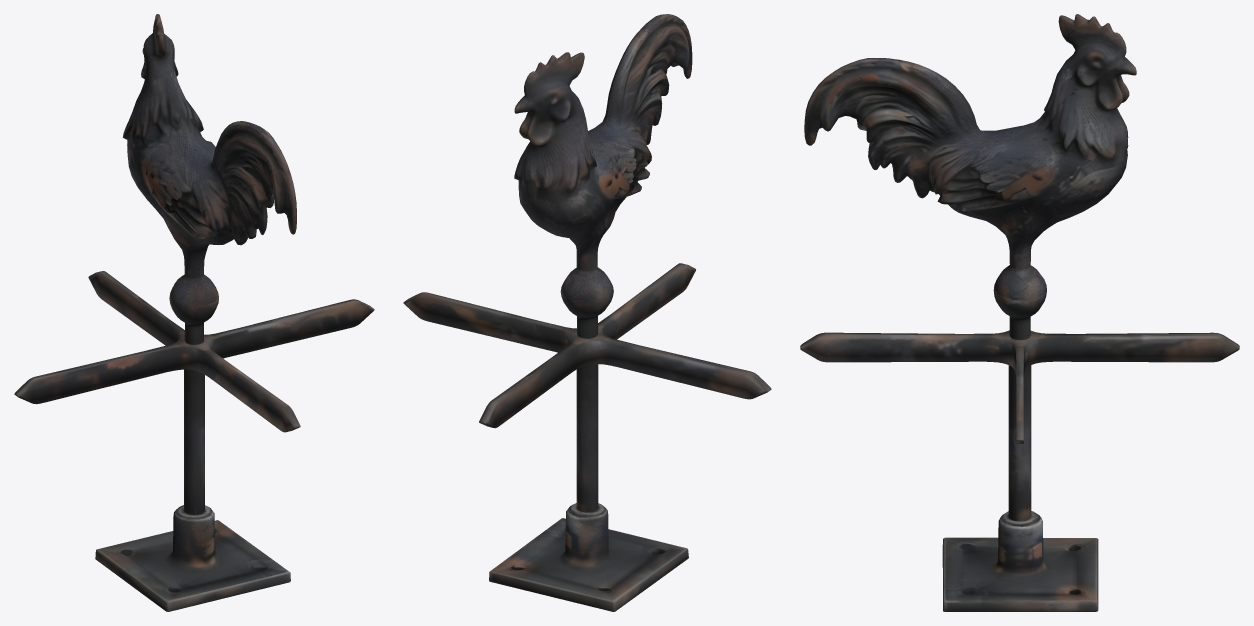
File: SM_Env_SohoWeathervane.fbx
The picture shows the model from 3 angles, left to right: view 1: azimuth 30°, elevation 25°; view 2: azimuth 150°, elevation 25°; view 3: azimuth 270°, elevation 25°; orthographic projection. The views are drawn at different scales.
Parts seen in each view (by area): view 1: SM_Env_SohoWeathervane; view 2: SM_Env_SohoWeathervane; view 3: SM_Env_SohoWeathervane.
Part boxes in pixels (left/top/right/bottom): SM_Env_SohoWeathervane: left=14, top=14, right=374, bottom=611; SM_Env_SohoWeathervane: left=403, top=14, right=771, bottom=611; SM_Env_SohoWeathervane: left=800, top=14, right=1239, bottom=611.
Size of the model in its own units: 31.81 by 31.81 by 45.
Materials: 1 (1 with a texture image).
